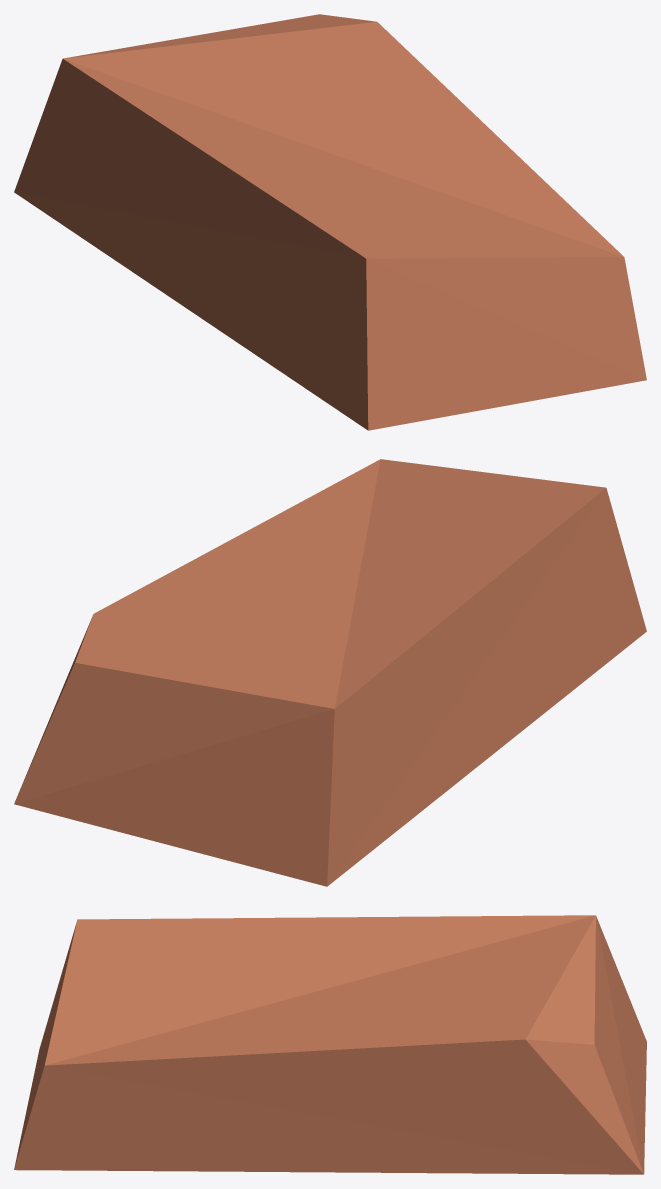
File: west_rock08.FBX
The picture shows the model from 3 angles, top to bottom: view 1: azimuth 30°, elevation 25°; view 2: azimuth 150°, elevation 25°; view 3: azimuth 270°, elevation 25°; orthographic projection. The views are drawn at different scales.
Visible parts, largest first — view 1: west_rock08; view 2: west_rock08; view 3: west_rock08.
Part boxes in pixels (x1,y1,x2,y2): west_rock08: (14, 14, 646, 430); west_rock08: (14, 459, 646, 886); west_rock08: (14, 915, 646, 1174).
Bounding box in the file's own units: 806 × 388 × 1571.
